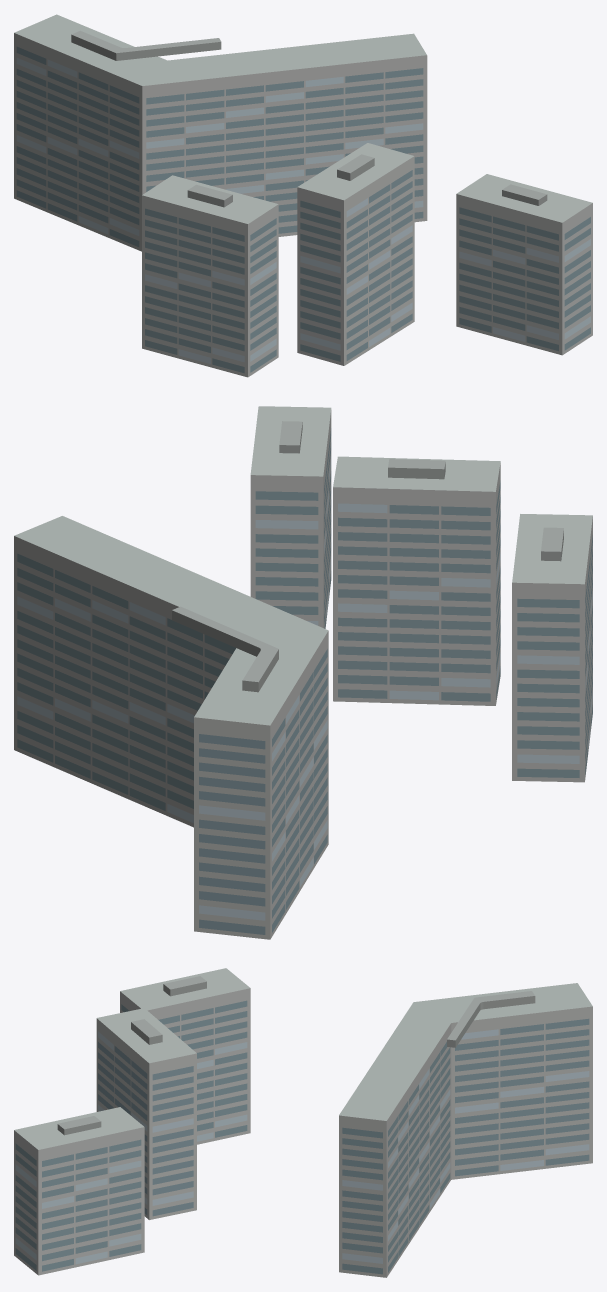
File: apt-a13604301.glb
The picture shows the model from 3 angles, top to bottom: view 1: azimuth 30°, elevation 25°; view 2: azimuth 150°, elevation 25°; view 3: azimuth 270°, elevation 25°; orthographic projection. The views are drawn at different scales.
Visible parts, largest first — view 1: apt-a13604301; view 2: apt-a13604301; view 3: apt-a13604301.
Part boxes in pixels (bbox=[...]): apt-a13604301: bbox=[14, 14, 592, 377]; apt-a13604301: bbox=[14, 406, 592, 939]; apt-a13604301: bbox=[14, 968, 592, 1277].
Size of the model in its own units: 86.09 by 40 by 128.
